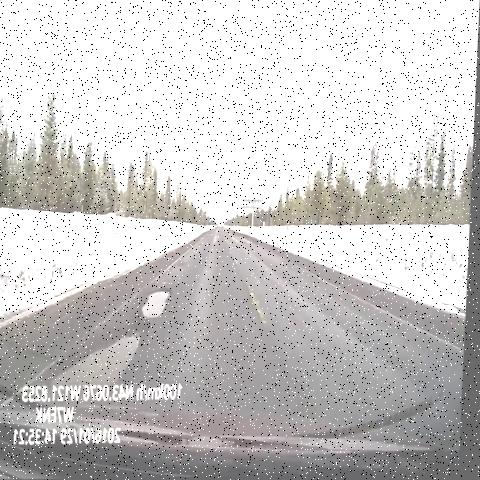pothole: (48, 324, 153, 405), (140, 279, 178, 322)
